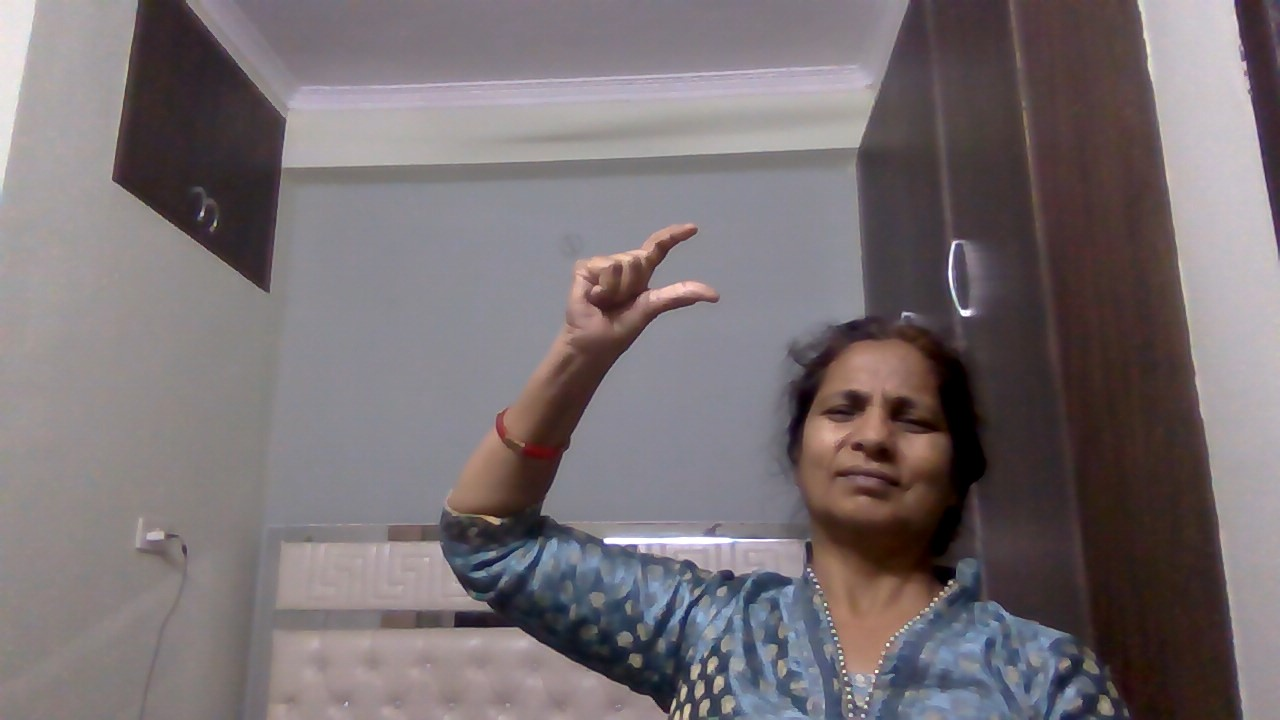Paste: (558, 220, 729, 386)
